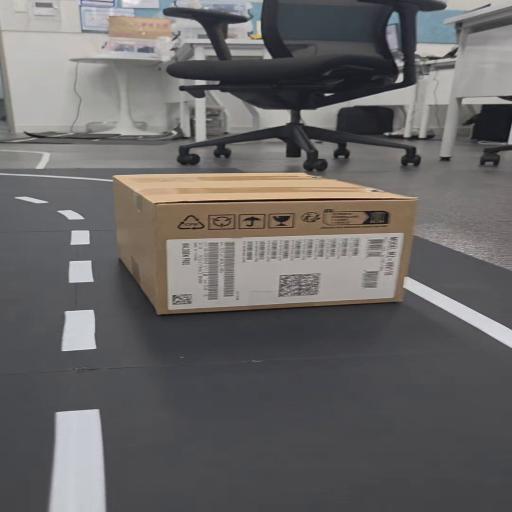Box: (108, 168, 430, 317)
